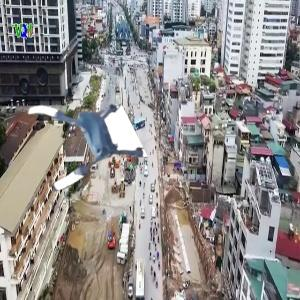drone: (28, 84, 133, 189)
